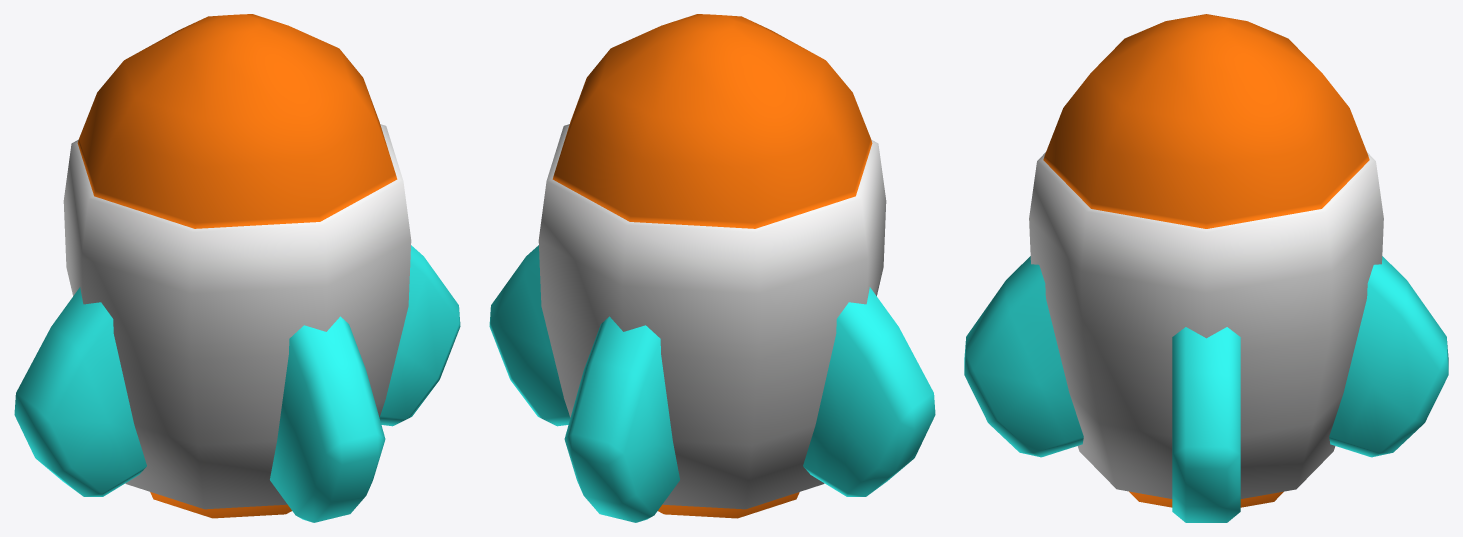
The model's file is Weapon_Missile_02.fbx.
The picture shows the model from 3 angles, left to right: view 1: azimuth 30°, elevation 25°; view 2: azimuth 150°, elevation 25°; view 3: azimuth 270°, elevation 25°; orthographic projection.
Visible parts, largest first — view 1: Weapon_Missile_02; view 2: Weapon_Missile_02; view 3: Weapon_Missile_02.
Boxes of the visible parts, left/top/right/bottom form: Weapon_Missile_02: left=14, top=14, right=460, bottom=522; Weapon_Missile_02: left=489, top=14, right=935, bottom=522; Weapon_Missile_02: left=964, top=14, right=1448, bottom=522.
Bounding box in the file's own units: 45.11 × 46.15 × 45.11.
